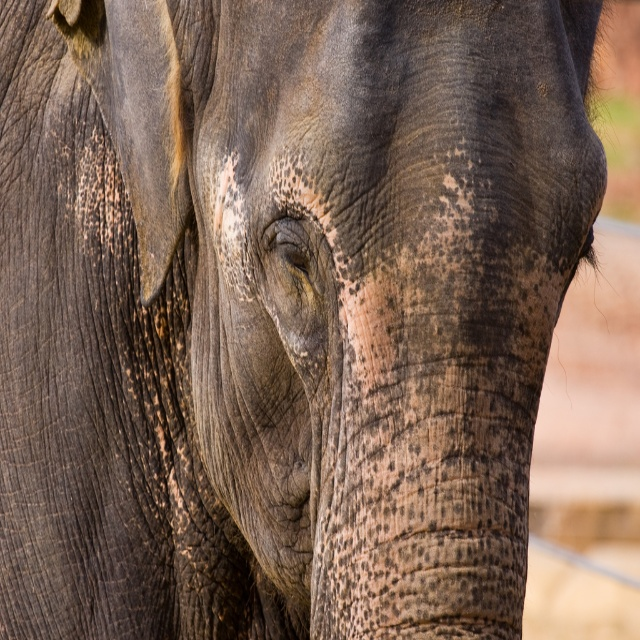Elephant: (62, 0, 626, 640)
